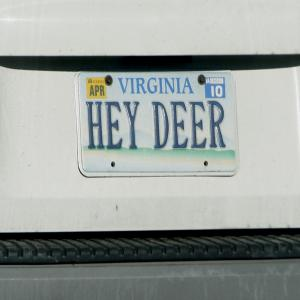Vehicle-registration-plate: (68, 64, 251, 181)
